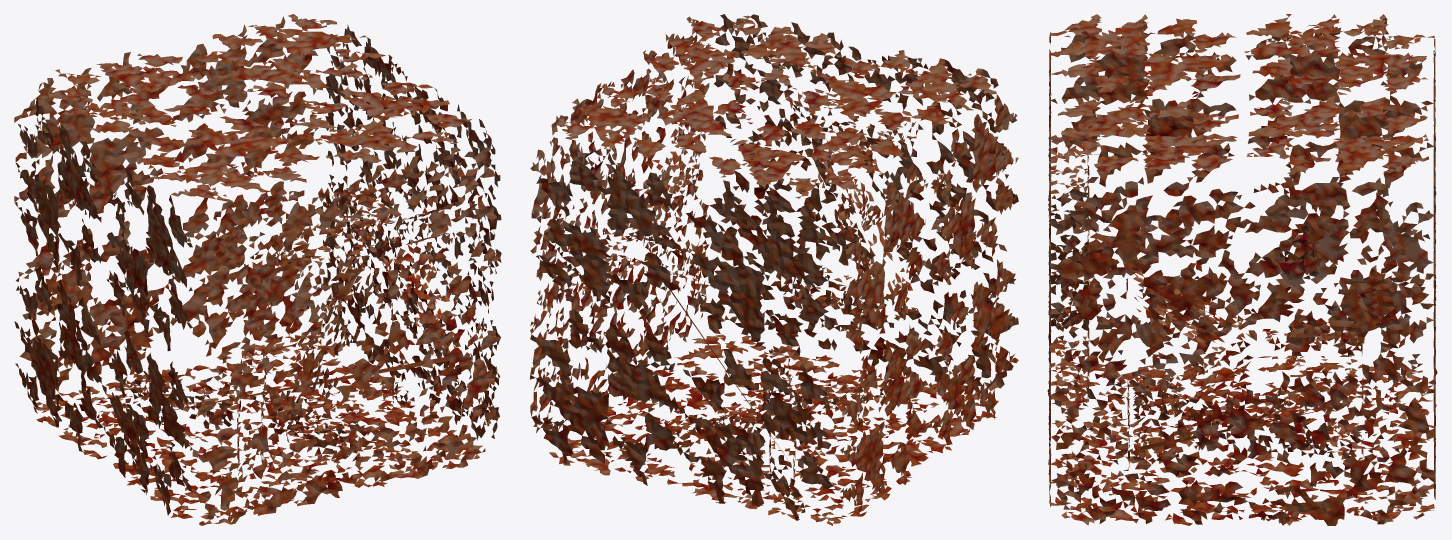
3 renders of one model, left to right at view 1: azimuth 30°, elevation 25°; view 2: azimuth 150°, elevation 25°; view 3: azimuth 270°, elevation 25°, orthographic. The views are drawn at different scales.
Size of the model in its own units: 1.14 by 1.14 by 1.14.
